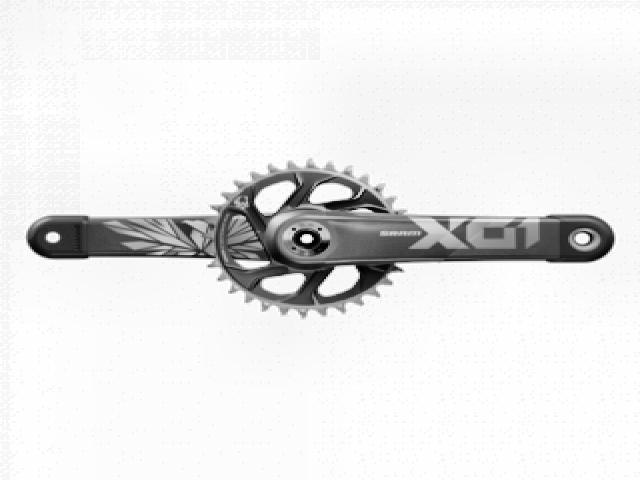cranks_set: (205, 158, 616, 318)
